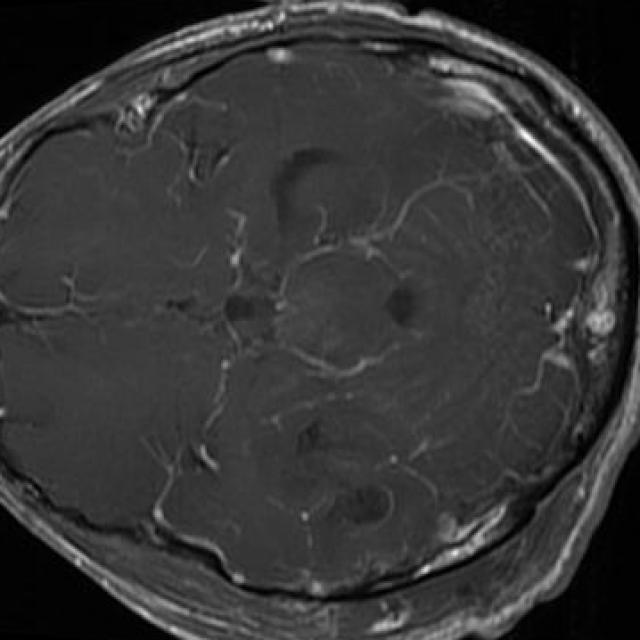glioma: (291, 421, 439, 560)
